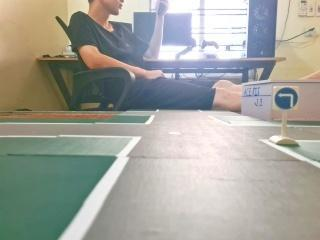left: (268, 81, 303, 114)
